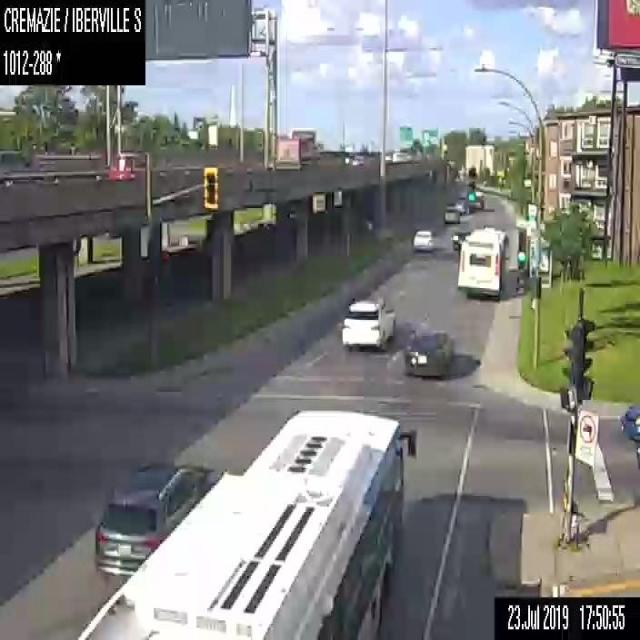bus: (77, 405, 415, 639), (457, 225, 509, 299)
vehicle: (94, 462, 216, 578), (341, 296, 395, 349), (404, 328, 451, 376), (275, 126, 323, 169), (112, 151, 146, 179), (619, 403, 639, 440), (450, 226, 471, 248), (413, 228, 432, 249), (385, 148, 407, 163), (442, 204, 460, 222), (343, 152, 362, 165), (468, 197, 484, 210), (454, 196, 466, 212), (634, 444, 639, 469), (475, 187, 483, 199)
